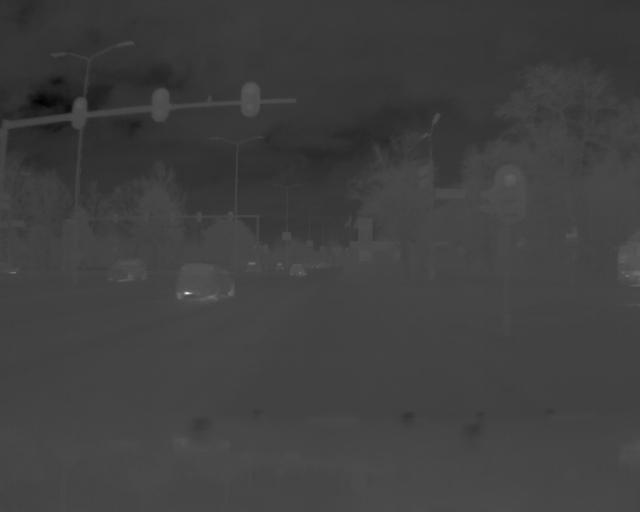car: (174, 262, 241, 302), (105, 257, 148, 282), (288, 260, 306, 276)
